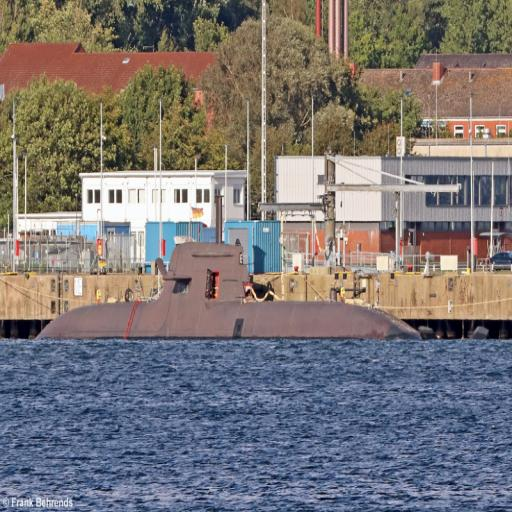submarine: (31, 164, 458, 351)
